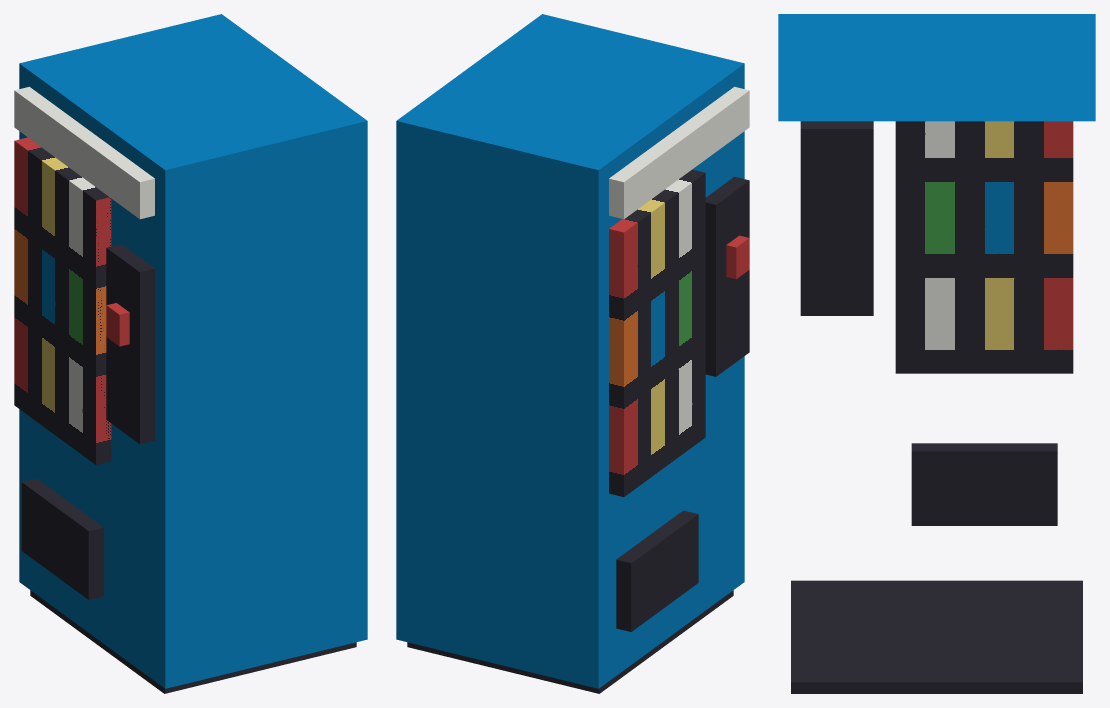
File: vend.glb
The picture shows the model from 3 angles, left to right: view 1: azimuth 30°, elevation 25°; view 2: azimuth 150°, elevation 25°; view 3: azimuth 270°, elevation 25°; orthographic projection. The views are drawn at different scales.
Visible parts, largest first — view 1: Body, Win, Pay, Head, Flap, Feet, Btn; view 2: Body, Win, Pay, Head, Flap, Feet, Btn; view 3: Win, Body, Feet, Pay, Flap.
Boxes of the visible parts, x1,y1,x2,y2 form: Body: [19, 14, 367, 688]; Win: [14, 137, 111, 464]; Pay: [106, 244, 154, 444]; Head: [14, 86, 154, 219]; Flap: [21, 478, 103, 599]; Feet: [30, 590, 356, 693]; Btn: [106, 303, 129, 346]; Body: [396, 14, 744, 688]; Win: [609, 169, 705, 496]; Pay: [705, 176, 749, 376]; Head: [609, 86, 749, 219]; Flap: [616, 510, 698, 631]; Feet: [407, 590, 733, 693]; Btn: [726, 235, 749, 279]; Win: [895, 121, 1073, 373]; Body: [778, 14, 1095, 121]; Feet: [791, 580, 1082, 693]; Pay: [800, 121, 873, 315]; Flap: [911, 443, 1057, 525].
Bounding box in the file's own units: 0.9 × 2 × 1.
Materials: 5 (1 with a texture image).
